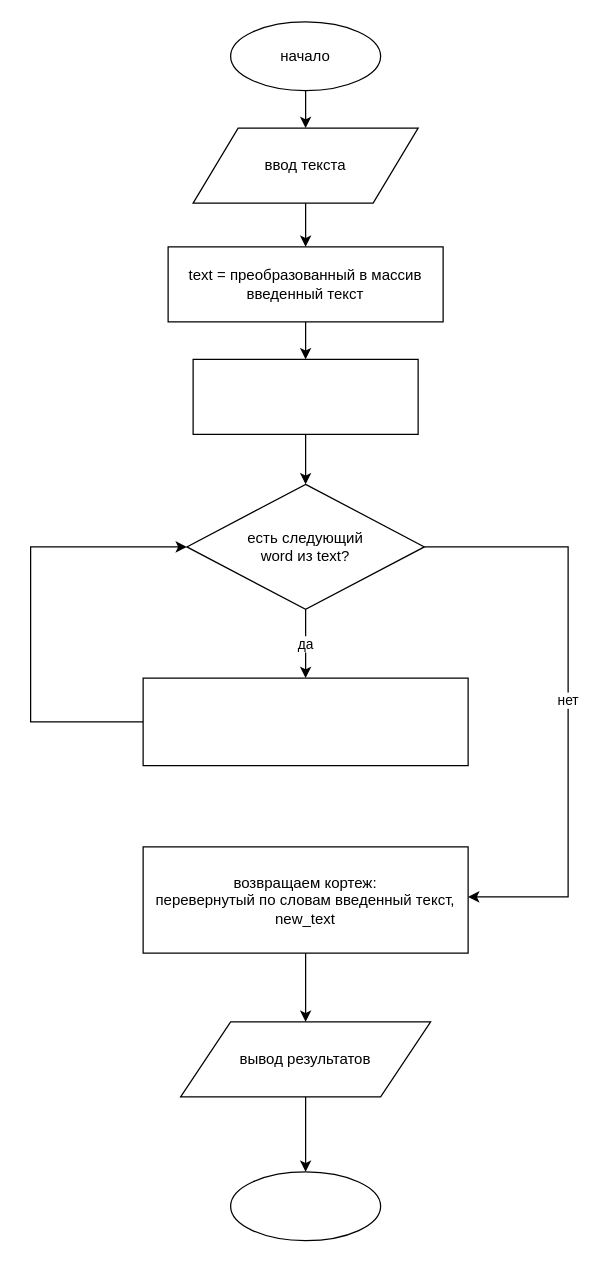
Image size: 600x1263. Some labels were removed from this diagram. The shapes that lost their labels are listed below. From the top down, each one's centre as x and y in pixels, then its label:
At point 305,396: "создаем переменную new_text я хранения текста".
At point 305,721: "добавляем в new_text перевёрнутый по буквам word".
At point 305,1206: "конец".
